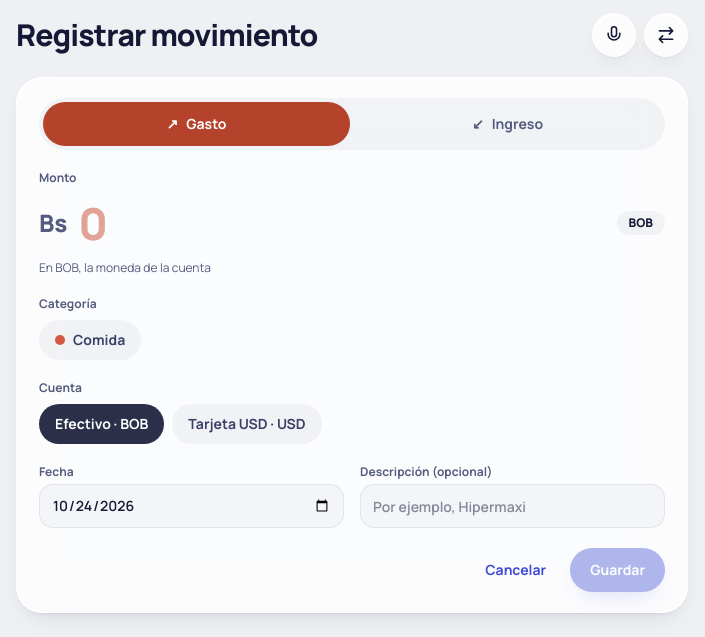
Test case: registro por voz › Corregir opens Quick Add with what was understood
Click the button named "Dictar" at (614, 34), box x1=592 y1=12 x2=636 y2=56
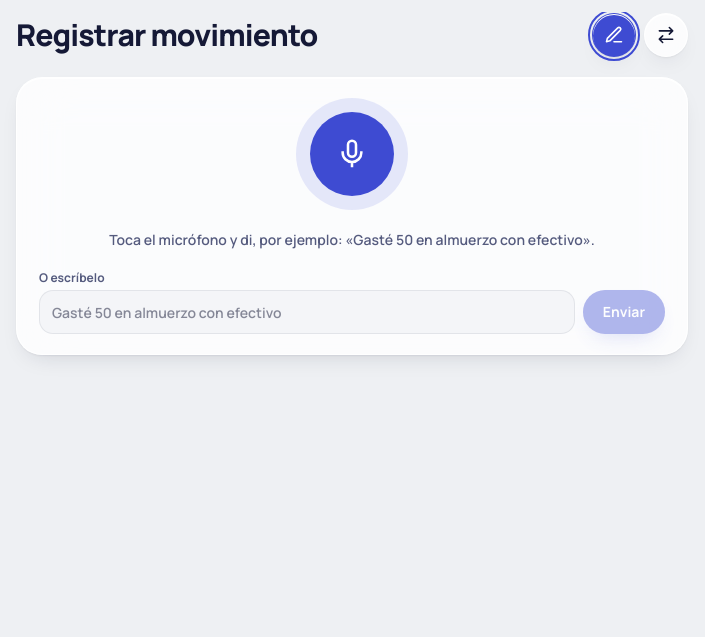
Type "Gasté 50" into the field labelled "O escríbelo" at (307, 312), box x1=39 y1=290 x2=575 y2=334
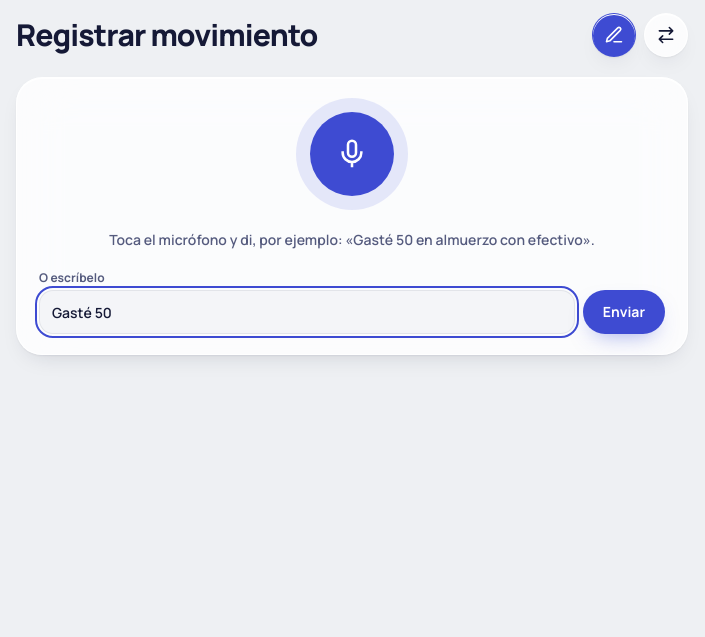
Click the button "Enviar" at (624, 312), box x1=583 y1=290 x2=665 y2=334
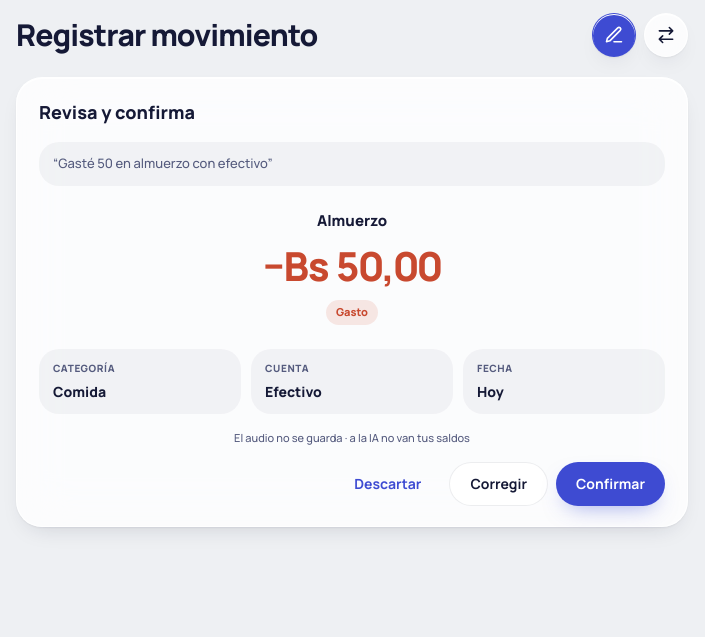
Click the button "Corregir" at (499, 484), box x1=449 y1=462 x2=548 y2=506
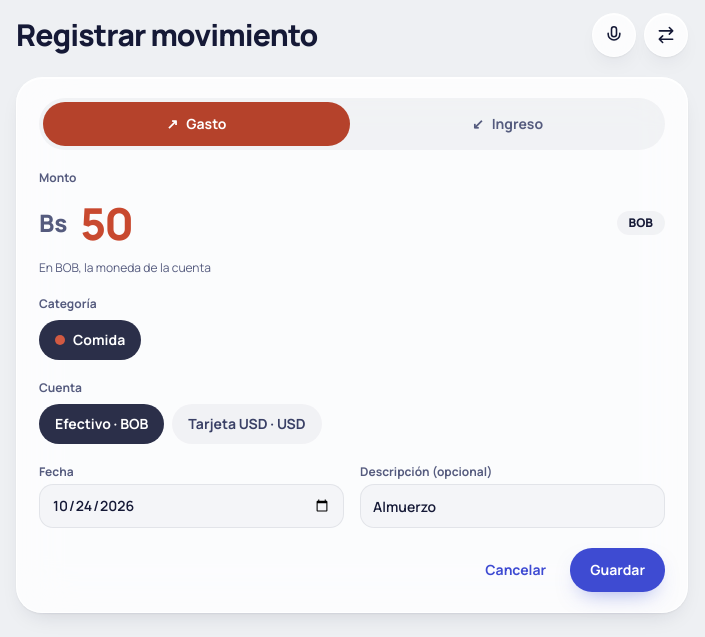
expect the field with placeholder "0" holds "50": met, box x1=79 y1=190 x2=605 y2=256
